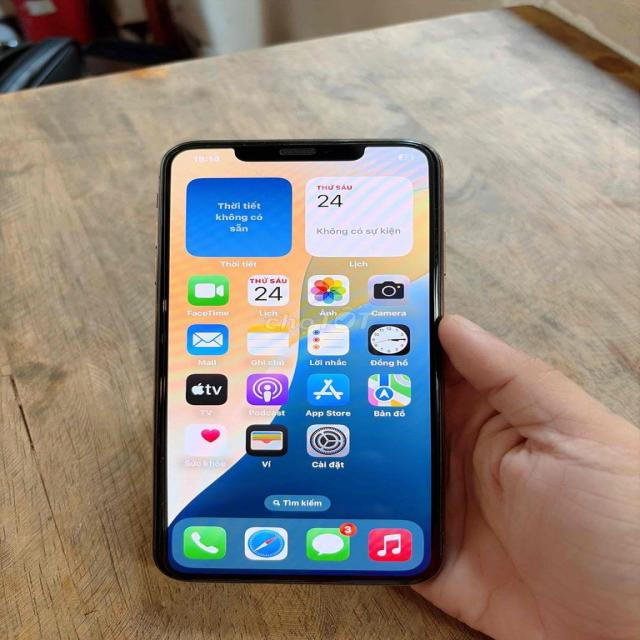gen_x_xs: (151, 137, 451, 590)
